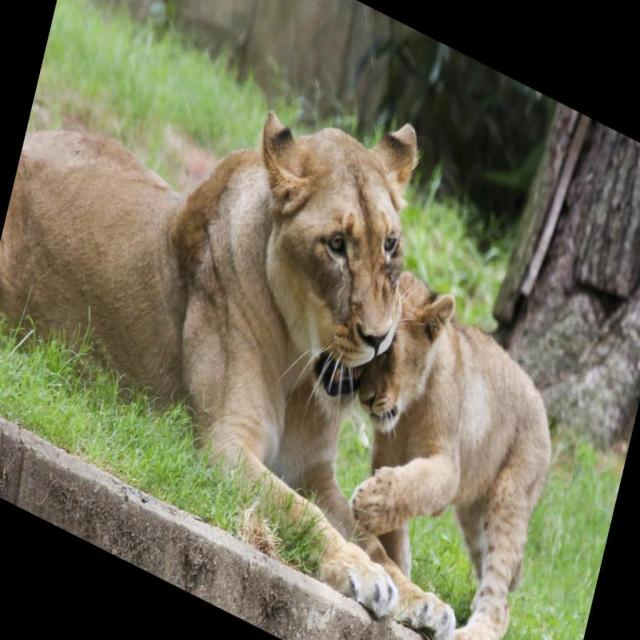Lion: (0, 0, 556, 639), (312, 259, 576, 639)
